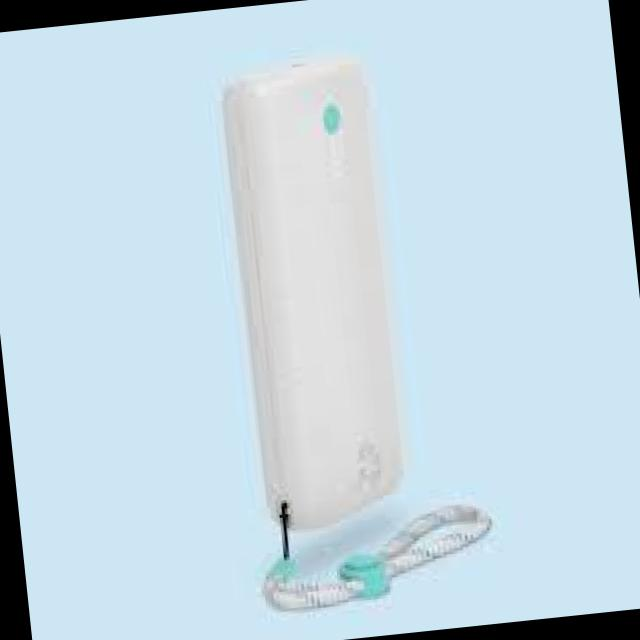portable-charger: (214, 48, 422, 534)
